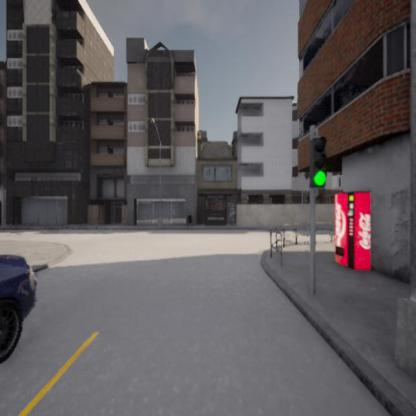traffic_light_green: (312, 139, 328, 187)
